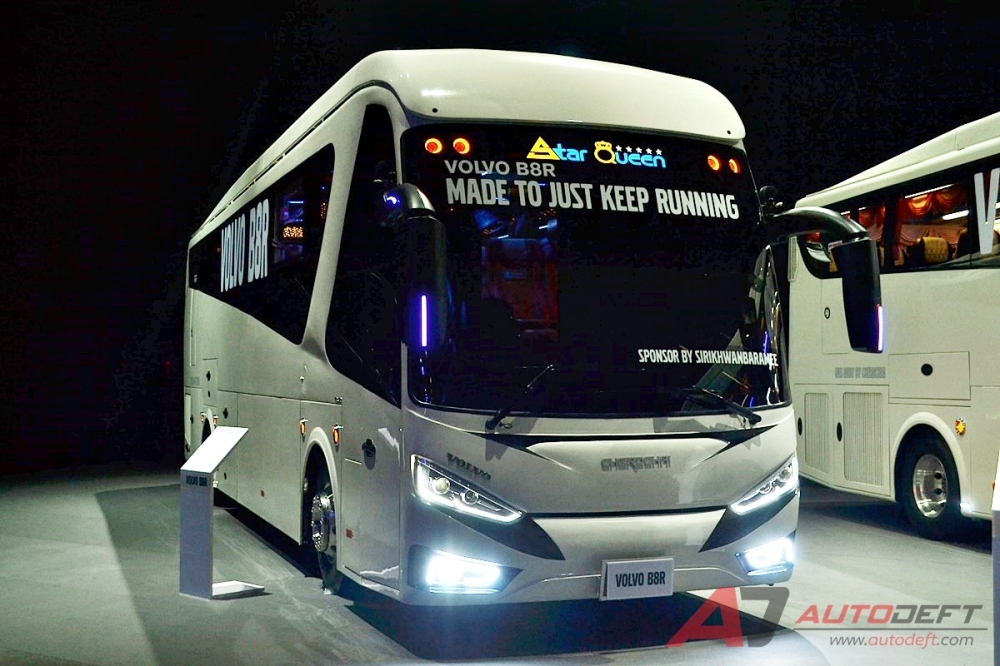bus: (176, 46, 797, 609)
